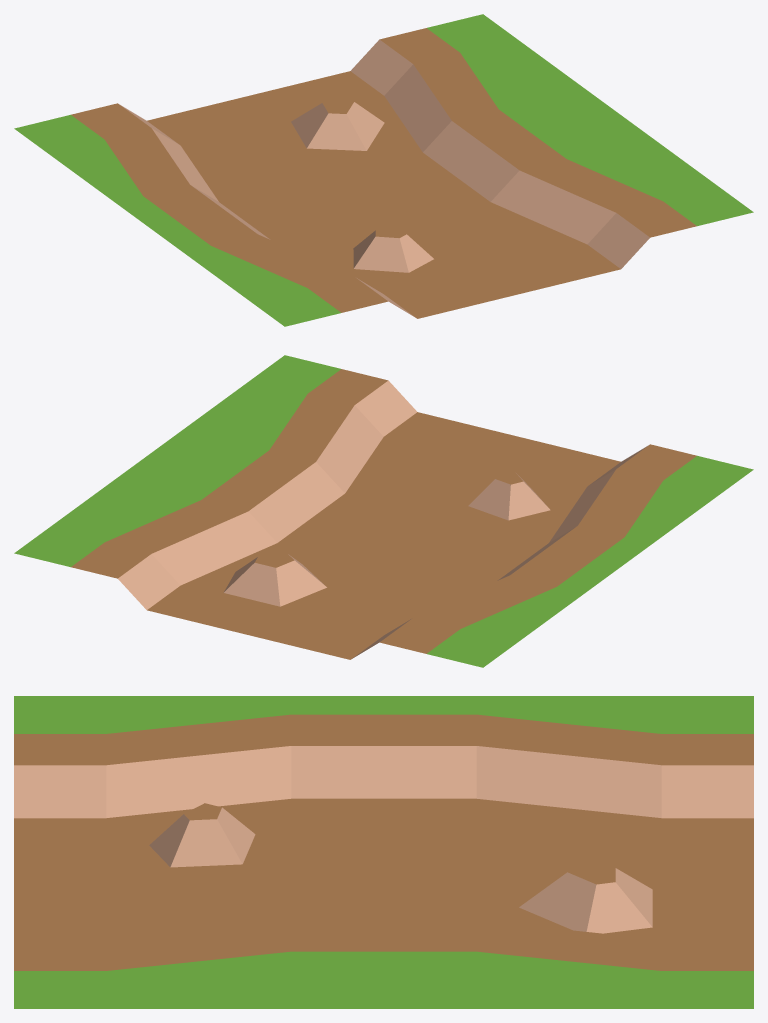
Rendered from ground_pathRocks.glb.
3 renders of one model, top to bottom at view 1: azimuth 30°, elevation 25°; view 2: azimuth 150°, elevation 25°; view 3: azimuth 270°, elevation 25°, orthographic. The views are drawn at different scales.
Visible parts, largest first — view 1: ground_pathRocks; view 2: ground_pathRocks; view 3: ground_pathRocks.
Part boxes in pixels (box(x1,y1,x2,y2)): ground_pathRocks: box(14, 14, 753, 326); ground_pathRocks: box(14, 355, 753, 667); ground_pathRocks: box(14, 696, 753, 1008).
Bounding box in the file's own units: 1 × 0.05 × 1.
